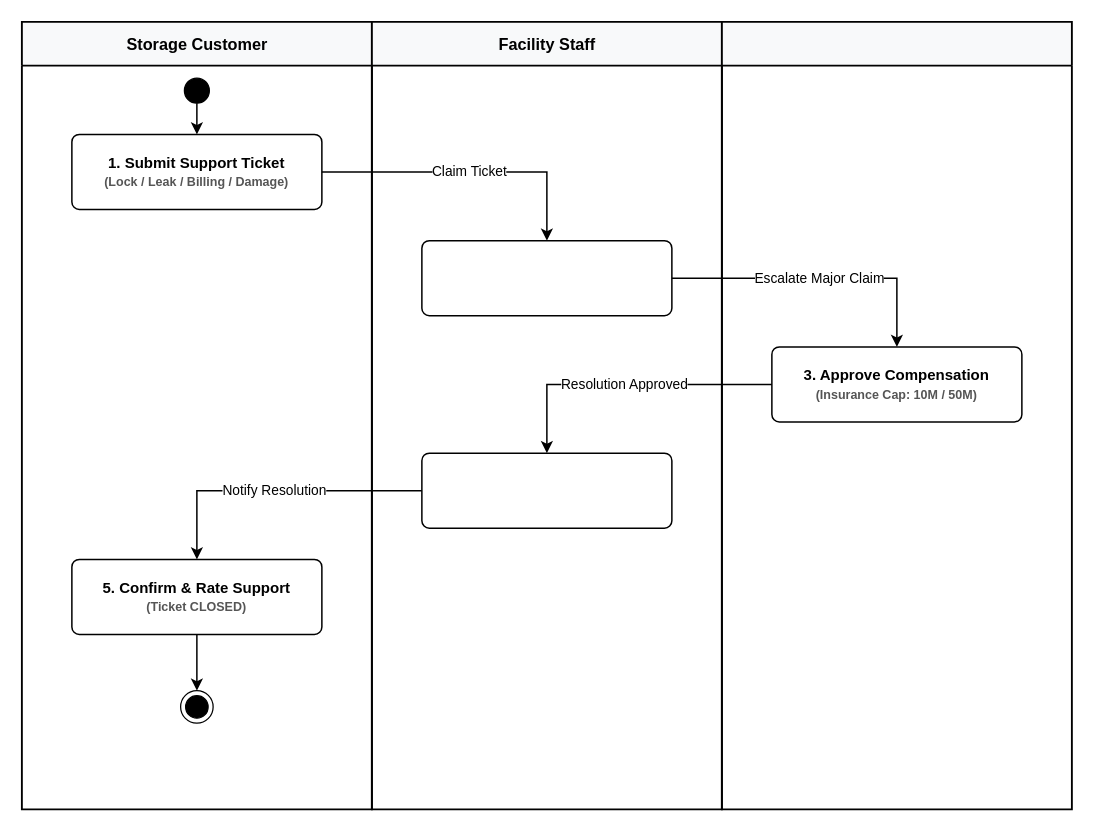
This 1095x833 diagram has some shape labels left out. The shapes that lost their labels are listed below. From the top down, each one's box as (x1, y1, x2, y2) in pixels, then its label:
(420, 239, 672, 316): 2. Investigate & Resolve Issue (Temp PIN / Battery / Inspection)
(720, 20, 1072, 810): Facility Manager
(420, 452, 672, 528): 4. Mark Ticket: RESOLVED (Auto-close after 72 Hours)
